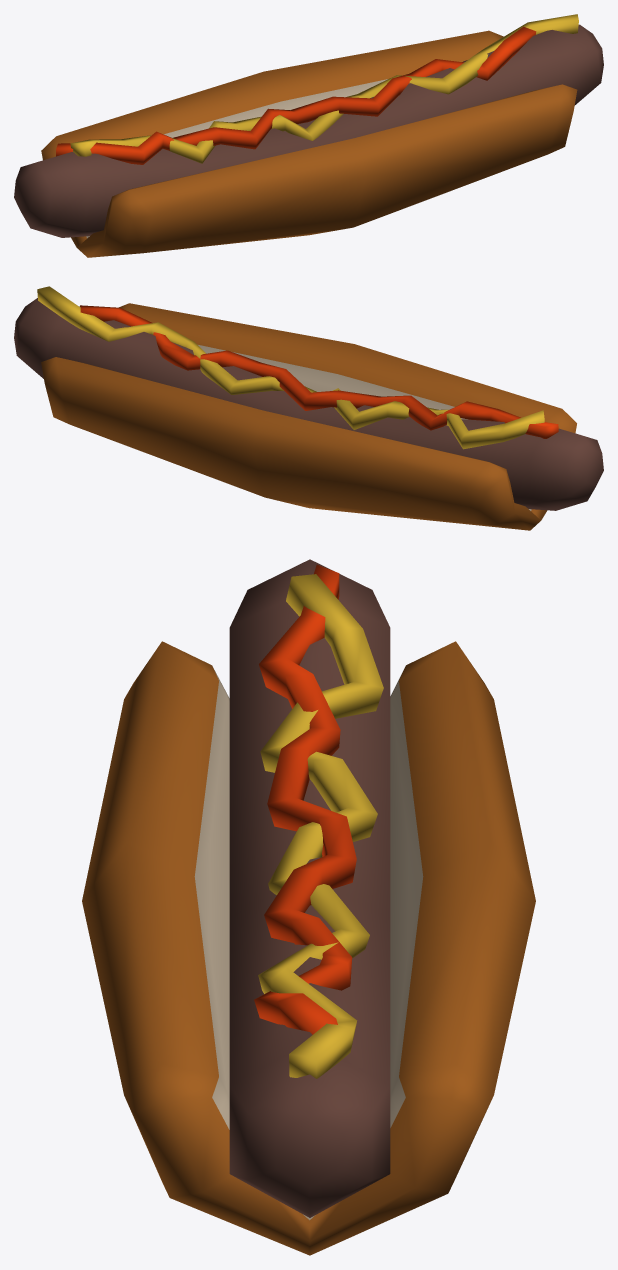
File: x_hotdog.fbx
The picture shows the model from 3 angles, top to bottom: view 1: azimuth 30°, elevation 25°; view 2: azimuth 150°, elevation 25°; view 3: azimuth 270°, elevation 25°; orthographic projection. The views are drawn at different scales.
Parts seen in each view (by area): view 1: x_hotdog_baked; view 2: x_hotdog_baked; view 3: x_hotdog_baked.
Boxes of the visible parts, bbox=[...] form: x_hotdog_baked: bbox=[14, 14, 603, 257]; x_hotdog_baked: bbox=[14, 286, 603, 530]; x_hotdog_baked: bbox=[82, 559, 535, 1255].
Size of the model in its own units: 0.7061 by 0.1809 by 0.2415.
